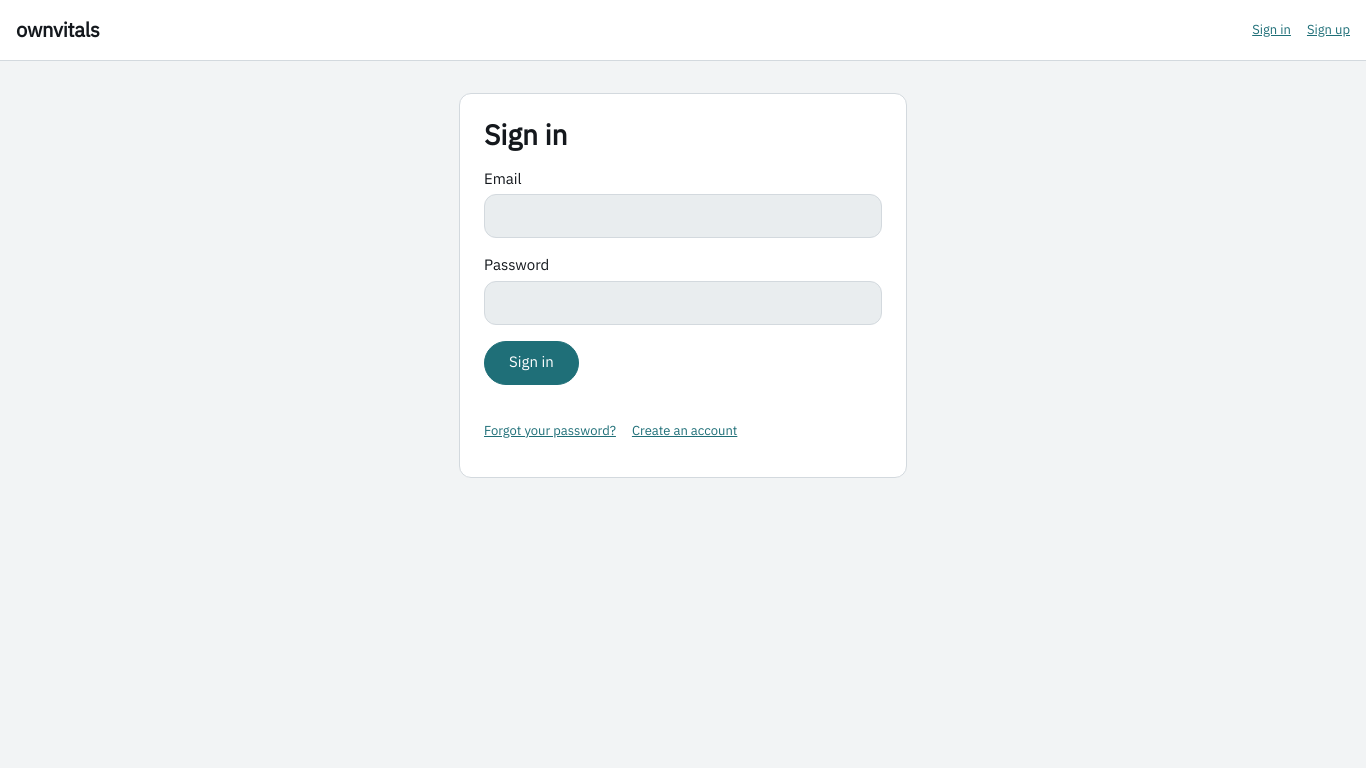
Test: sign-in with a password › goes to enrolment when the account has no authenticator app yet
The width and height of the screenshot is (1366, 768).
In the field labelled "Email": (683, 216) [484, 194, 882, 238], type "ann@example.test"
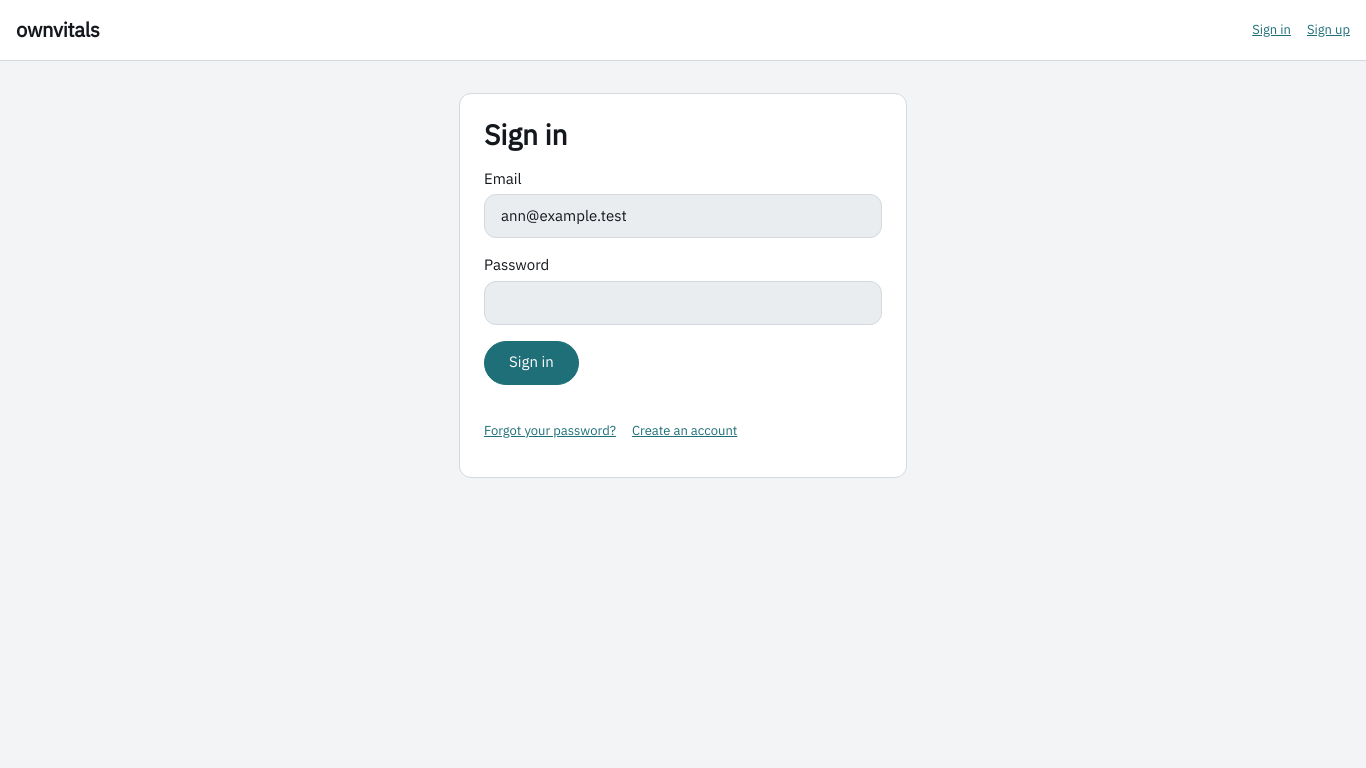
In the password field labelled "Password": (683, 303) [484, 281, 882, 325], type "correct horse battery"
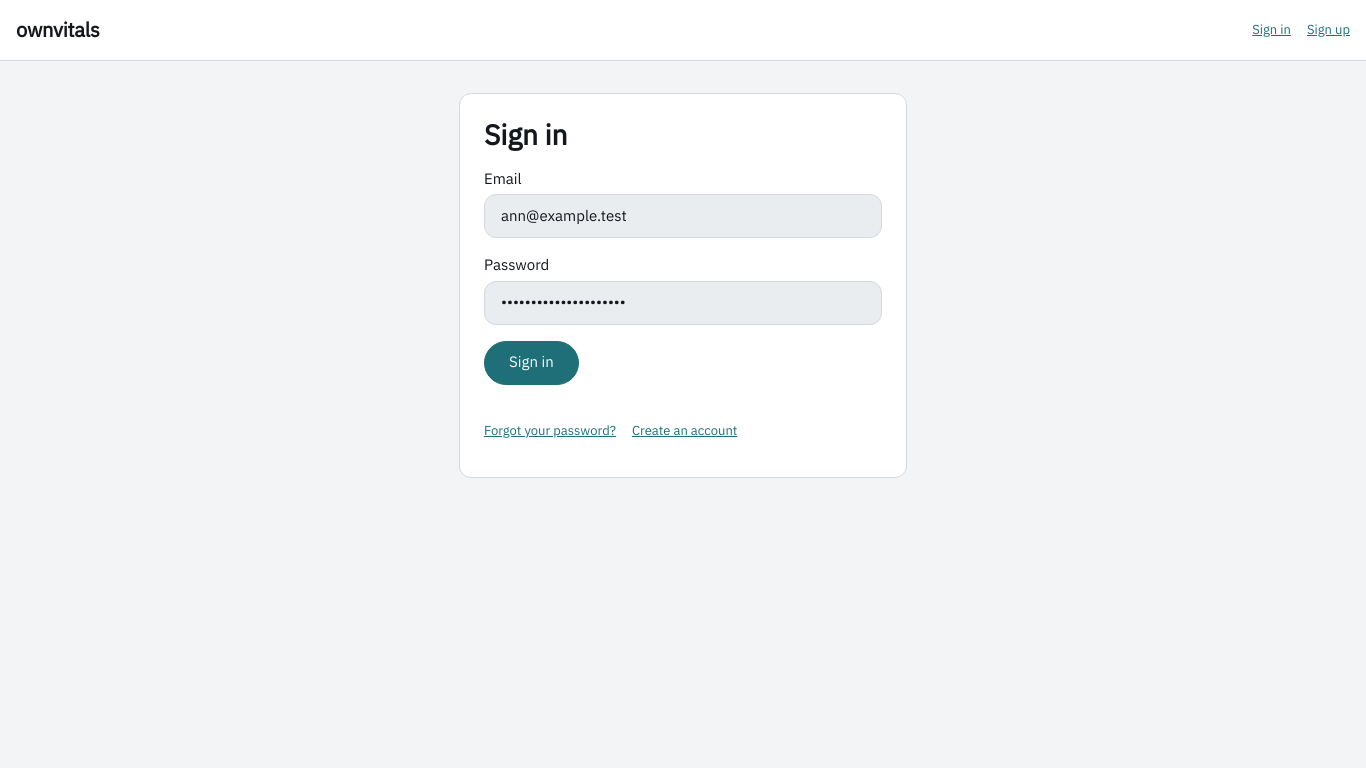
Click the button "Sign in": click(531, 363) [484, 341, 579, 385]
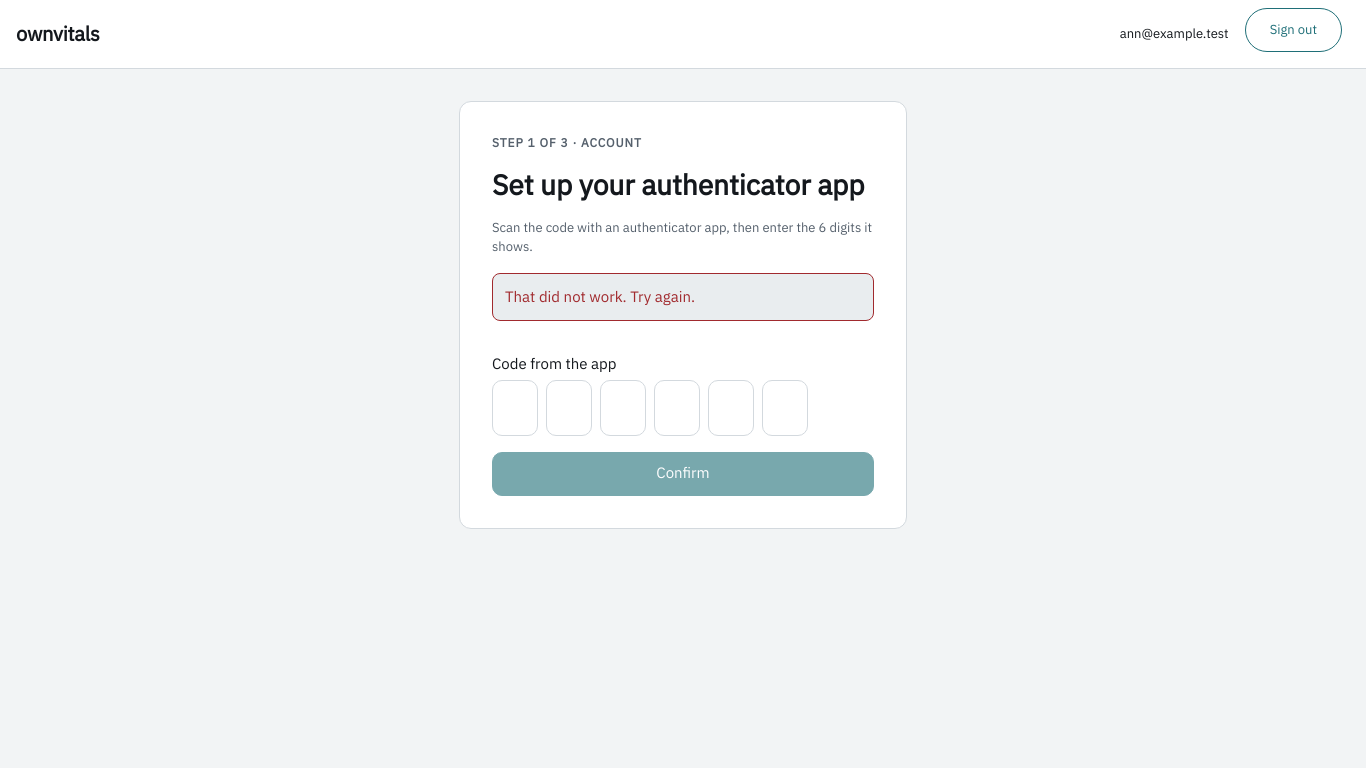
Now the heading "Set up your authenticator app" is shown, box [492, 168, 874, 202]
